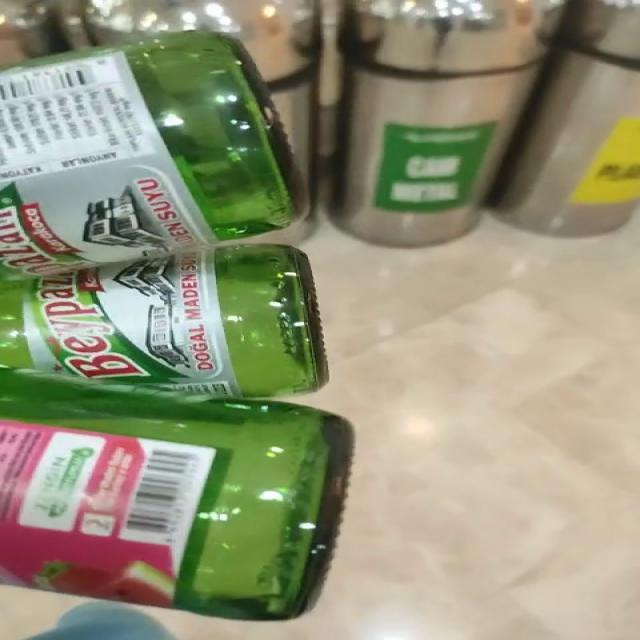Glass: (0, 31, 353, 621)
